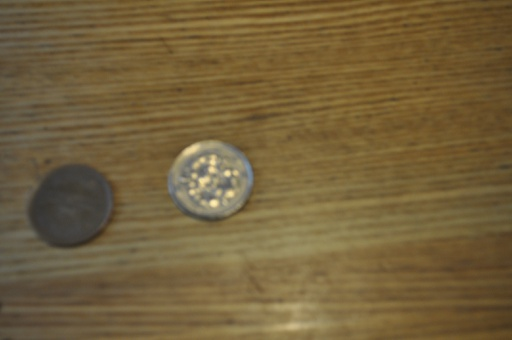100yen: (168, 141, 253, 221)
10yen: (27, 162, 113, 248)
